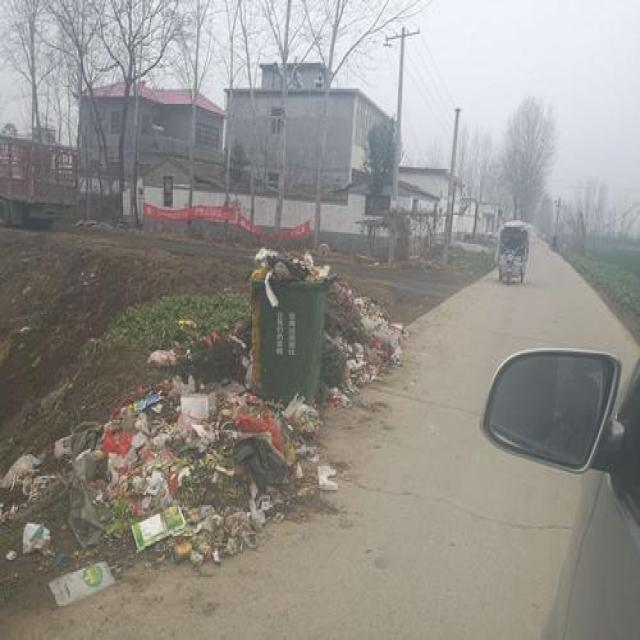garbage: (0, 316, 338, 612), (324, 273, 407, 401)
overflow: (250, 246, 326, 399)
